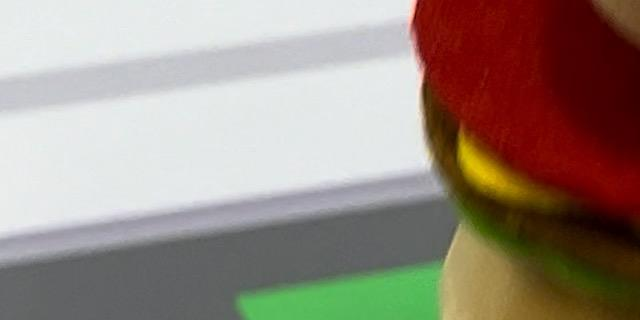burger: (380, 0, 640, 320)
